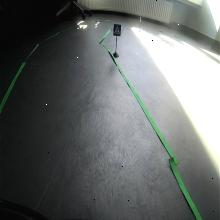crosswalk: (113, 22, 121, 36)
